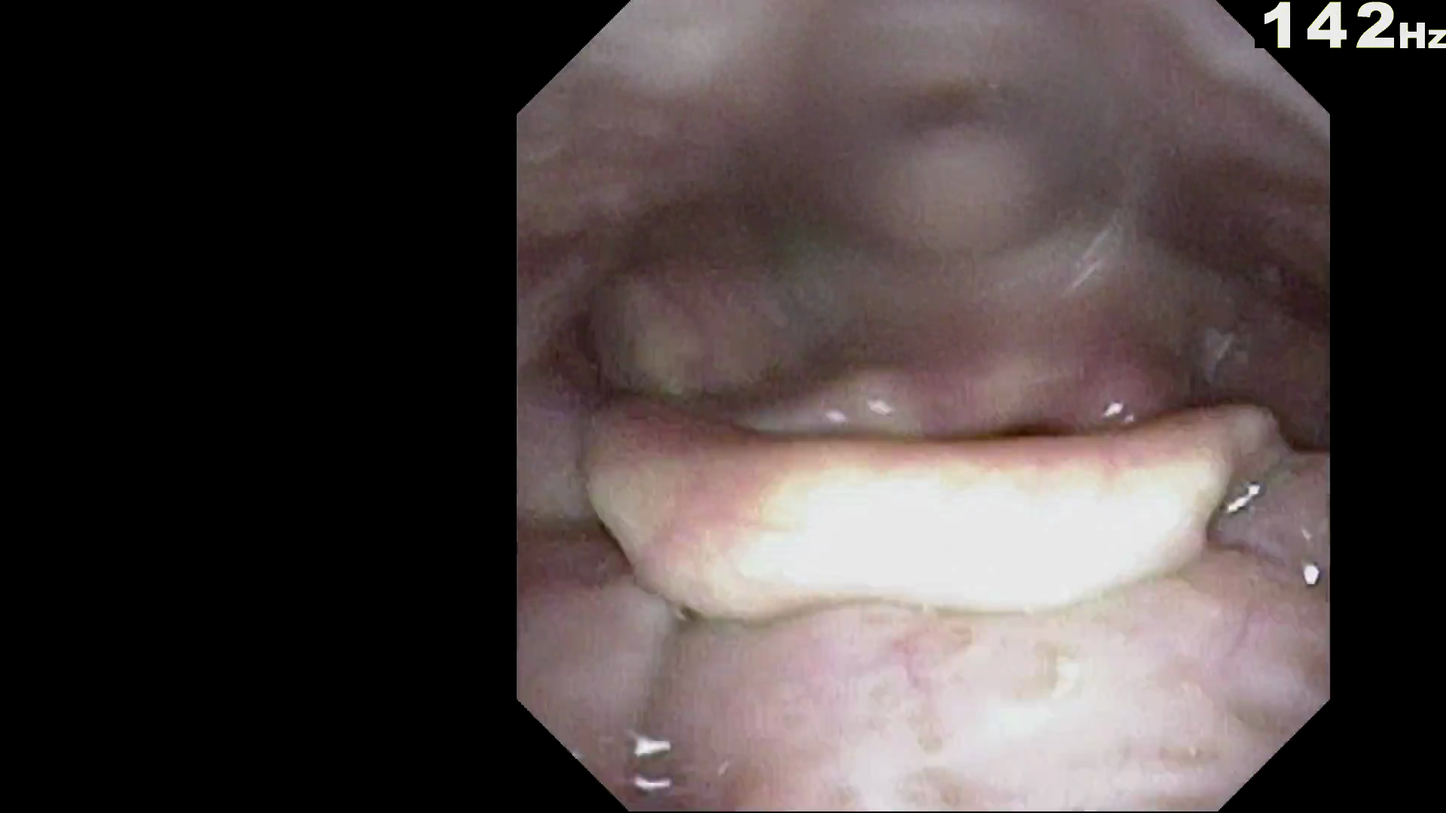epiglottis: (651, 389, 1267, 614)
